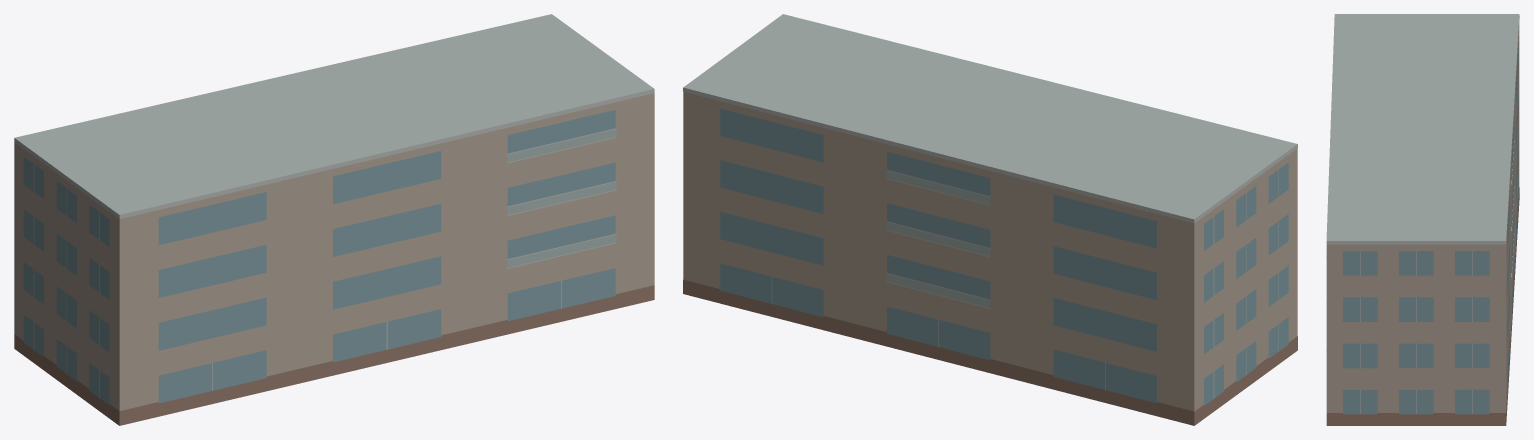
File: survey-upis-32869124.glb
The picture shows the model from 3 angles, left to right: view 1: azimuth 30°, elevation 25°; view 2: azimuth 150°, elevation 25°; view 3: azimuth 270°, elevation 25°; orthographic projection. The views are drawn at different scales.
Visible parts, largest first — view 1: survey-upis-32869124.tmp; view 2: survey-upis-32869124.tmp; view 3: survey-upis-32869124.tmp.
Part boxes in pixels (bbox=[...]): survey-upis-32869124.tmp: bbox=[14, 14, 654, 425]; survey-upis-32869124.tmp: bbox=[683, 14, 1297, 425]; survey-upis-32869124.tmp: bbox=[1326, 14, 1519, 425].
Size of the model in its own units: 32.12 by 12.2 by 11.55.
